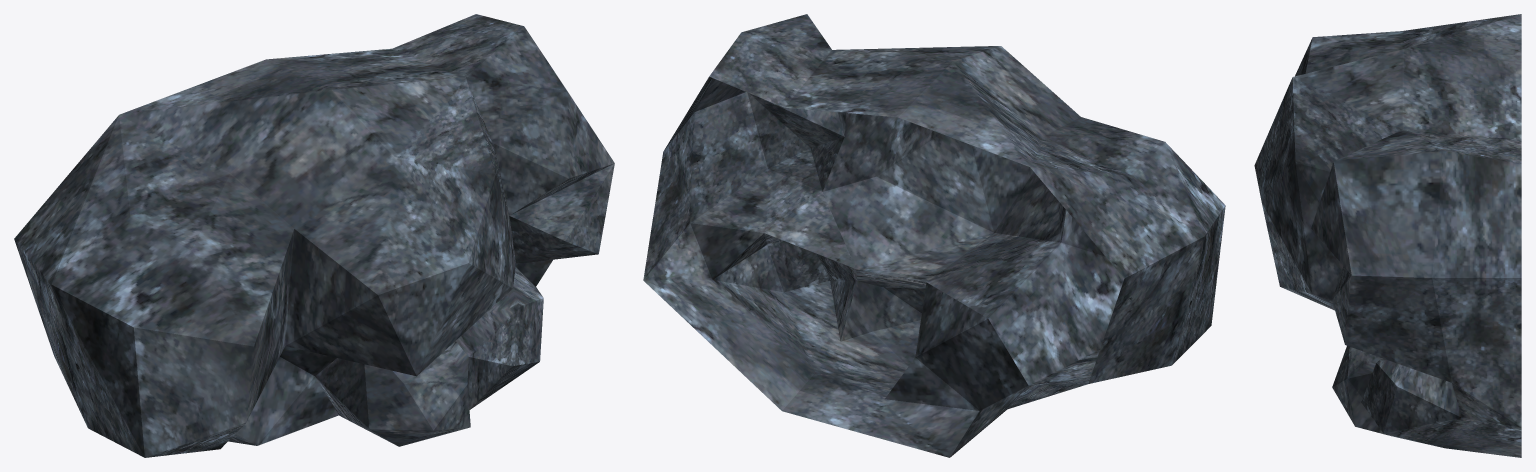
File: yatelandisi_dongxue_06_stone01.obj
3 renders of one model, left to right at view 1: azimuth 30°, elevation 25°; view 2: azimuth 150°, elevation 25°; view 3: azimuth 270°, elevation 25°, orthographic. The views are drawn at different scales.
Parts seen in each view (by area): view 1: yatelandisi_dongxue_06_stone01; view 2: yatelandisi_dongxue_06_stone01; view 3: yatelandisi_dongxue_06_stone01.
Part boxes in pixels (x1,y1,x2,y2): yatelandisi_dongxue_06_stone01: [14, 14, 614, 457]; yatelandisi_dongxue_06_stone01: [643, 14, 1225, 457]; yatelandisi_dongxue_06_stone01: [1254, 14, 1521, 457].
Bounding box in the file's own units: 132 × 85.25 × 57.86.
1 material, 1 textured.
